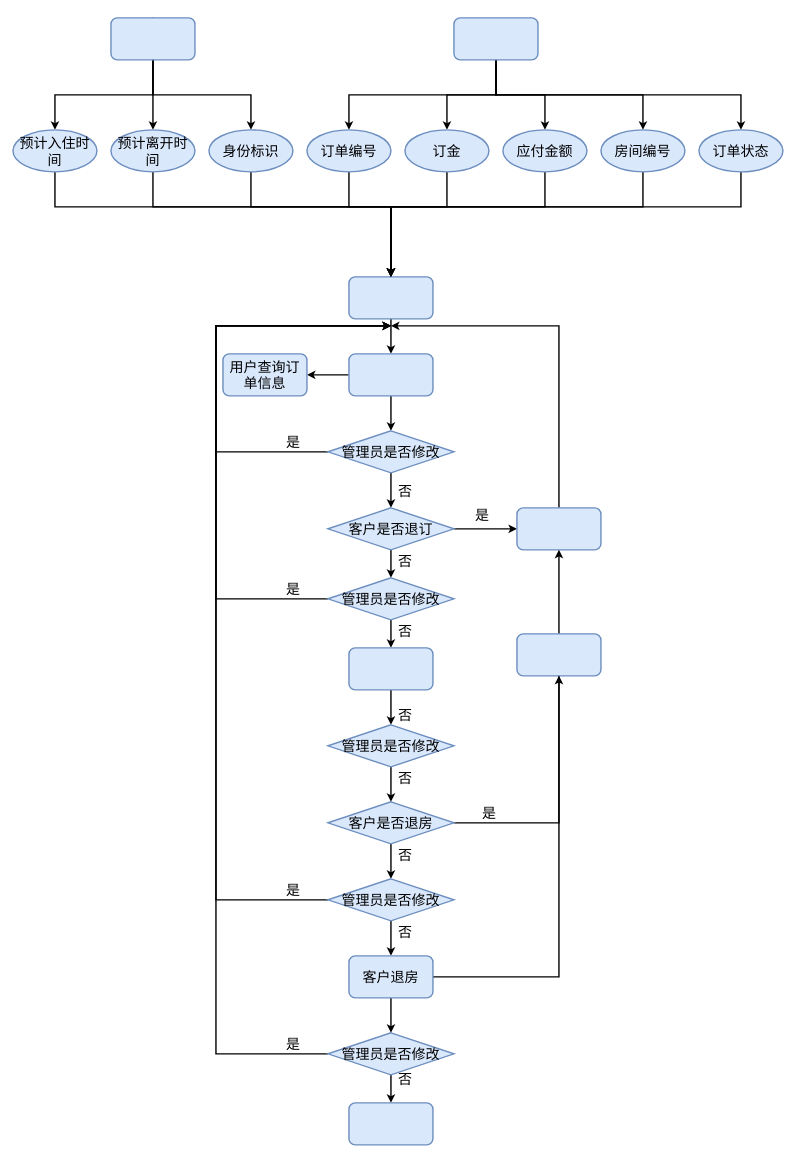
The diagram is 795 pixels wide and 1157 high, and some of its shapes have lost their labels. The shapes that lost their labels are listed below. From the top down, each one's box as (x1, y1, x2, y2) in pixels, then its label:
(110, 17, 195, 60): 客户填写部分订单信息
(453, 17, 538, 60): 系统生成部分订单信息
(348, 276, 433, 319): 提交订单信息
(348, 353, 433, 396): 存入订单信息表
(516, 507, 601, 550): 修改订单状态
(348, 647, 433, 690): 用户填写实际入住时间
(516, 633, 601, 676): 客户填写实际离开时间
(348, 1102, 433, 1145): 结束
